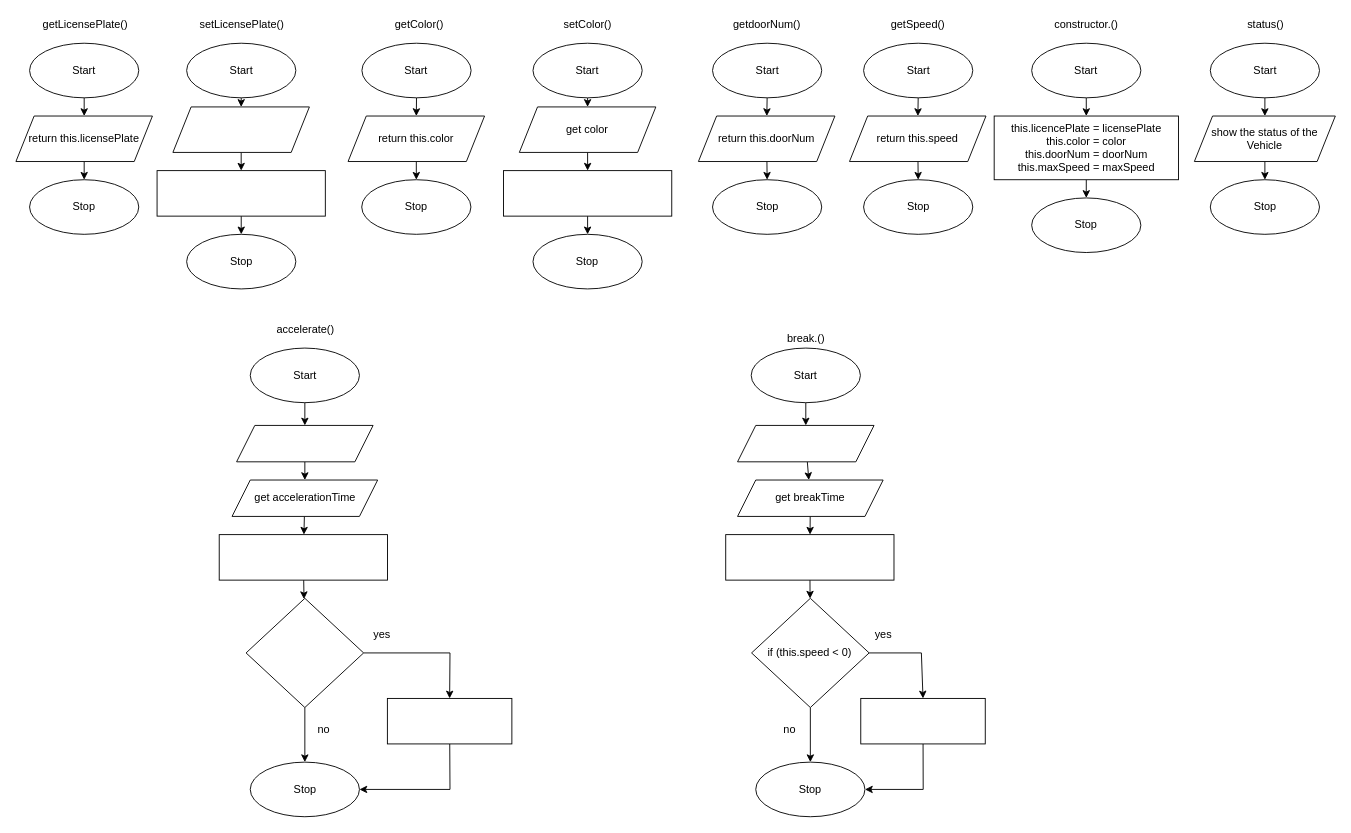
This 1351x833 diagram has some shape labels left out. Here are the shapes that lost their labels. From the top down, the centre of each, then its label:
(x=240, y=129): get licensePlate
(x=240, y=193): this.licencePlate = licensePlate
(x=587, y=193): this.color = color
(x=304, y=443): get accelerationPower
(x=805, y=443): get breakPowe
(x=302, y=557): this.speed = accelerationPower * accelerationTime + this.speed
(x=809, y=557): this.speed = this.speed - breakpower* breakTime
(x=304, y=652): if (this.speed > this.maxSpeed)
(x=449, y=721): this.speed = this.maxSpeed
(x=922, y=721): this.speed = 0
